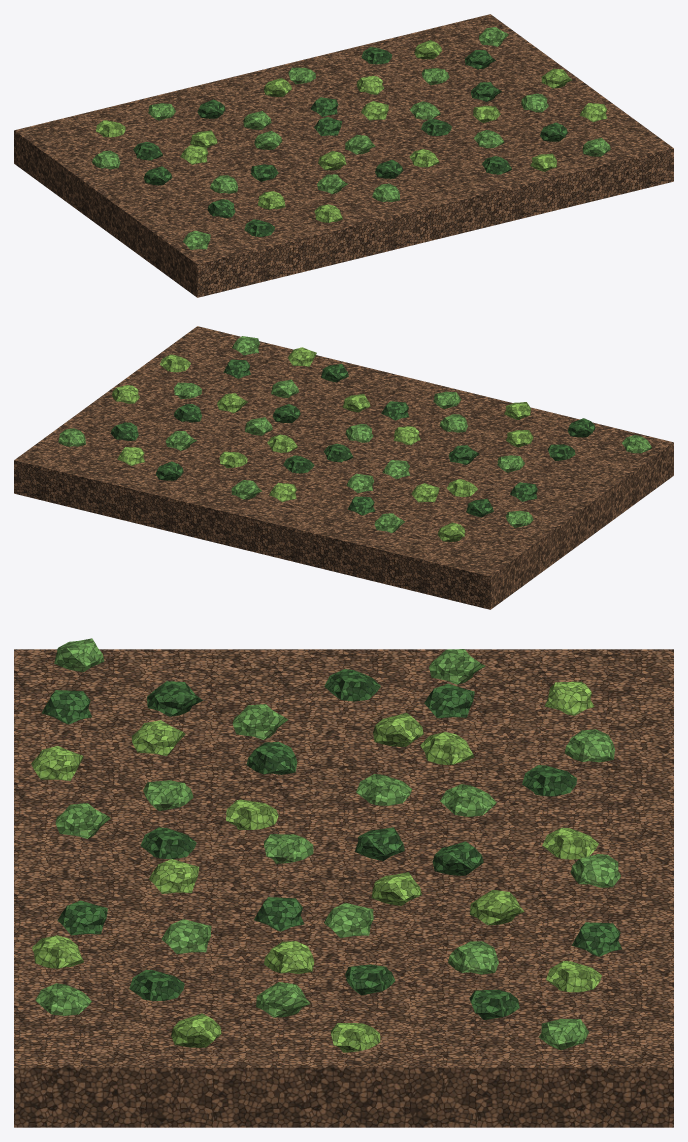
3 views of the same model, one above another, from view 1: azimuth 30°, elevation 25°; view 2: azimuth 150°, elevation 25°; view 3: azimuth 270°, elevation 25° (orthographic). The views are drawn at different scales.
Visible parts, largest first — view 1: landscape.ground_cover, biljka-2-0.15-, biljka-0-0.15-; view 2: landscape.ground_cover, biljka-0-0.15-; view 3: landscape.ground_cover, biljka-0-0.15- (×16), biljka-2-0.15- (×15), biljka-1-0.15- (×15).
Boxes of the visible parts, x1,y1,x2,y2 form: landscape.ground_cover: [14, 14, 673, 297]; biljka-2-0.15-: [541, 68, 571, 88]; biljka-0-0.15-: [345, 134, 375, 154]; landscape.ground_cover: [14, 326, 673, 609]; biljka-0-0.15-: [231, 480, 261, 499]; landscape.ground_cover: [14, 649, 673, 1127]; biljka-0-0.15- (×16): [35, 638, 620, 1050]; biljka-2-0.15- (×15): [31, 681, 601, 1052]; biljka-1-0.15- (×15): [42, 669, 621, 1019].
Size of the model in its own units: 3 by 2 by 0.2746.
4 materials, 4 textured.
